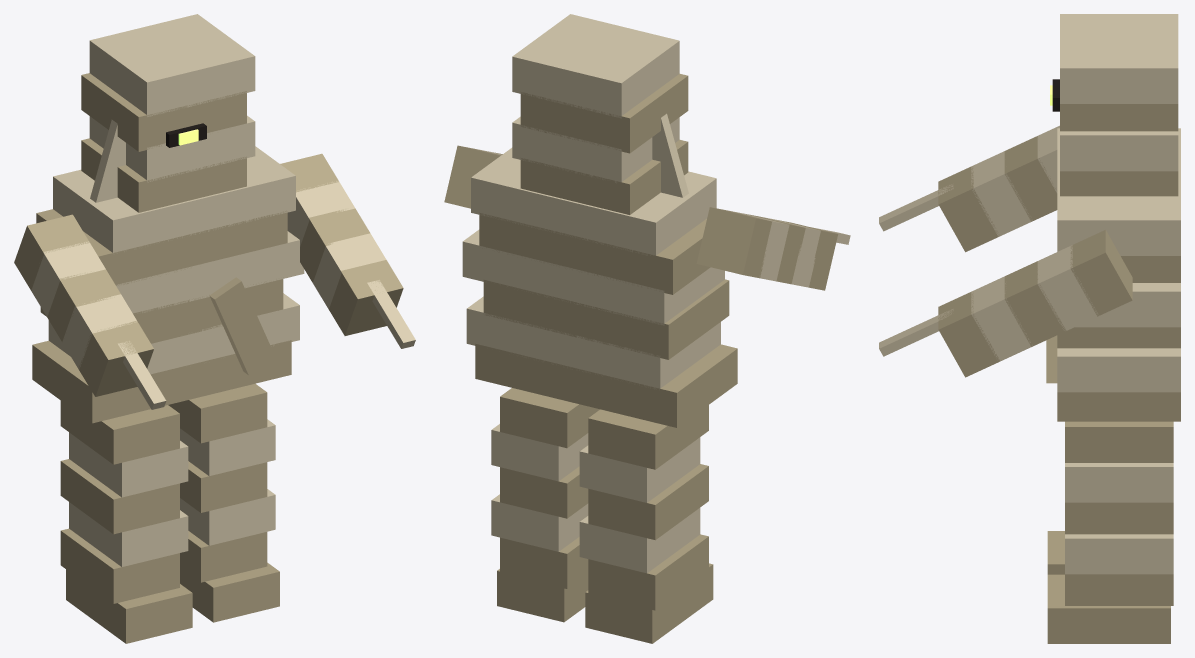
File: monsters__mummy.glb
The picture shows the model from 3 angles, left to right: view 1: azimuth 30°, elevation 25°; view 2: azimuth 150°, elevation 25°; view 3: azimuth 270°, elevation 25°; orthographic projection. The views are drawn at different scales.
Visible parts, largest first — view 1: monsters__mummy, rig_legL, rig_legR, rig_armL, rig_armR; view 2: monsters__mummy, rig_legL, rig_legR, rig_armL, rig_armR; view 3: monsters__mummy, rig_legR, rig_armR, rig_armL, rig_legL.
Part boxes in pixels (box(x1,y1,x2,y2)): monsters__mummy: box(32, 14, 304, 423); rig_legL: box(60, 401, 192, 643); rig_legR: box(168, 383, 279, 622); rig_armL: box(14, 214, 166, 409); rig_armR: box(280, 153, 415, 348); monsters__mummy: box(462, 14, 737, 427); rig_legL: box(579, 405, 713, 643); rig_legR: box(491, 388, 599, 622); rig_armL: box(696, 207, 850, 290); rig_armR: box(444, 145, 502, 208); monsters__mummy: box(1046, 14, 1180, 421); rig_legR: box(1047, 421, 1173, 643); rig_armR: box(879, 229, 1132, 377); rig_armL: box(879, 125, 1059, 252); rig_legL: box(1047, 531, 1064, 574).
Size of the model in its own units: 1.42 by 2.53 by 1.22.
